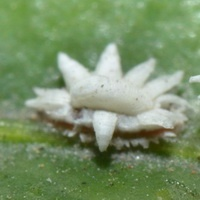insect: (25, 43, 188, 150), (188, 75, 199, 162)
